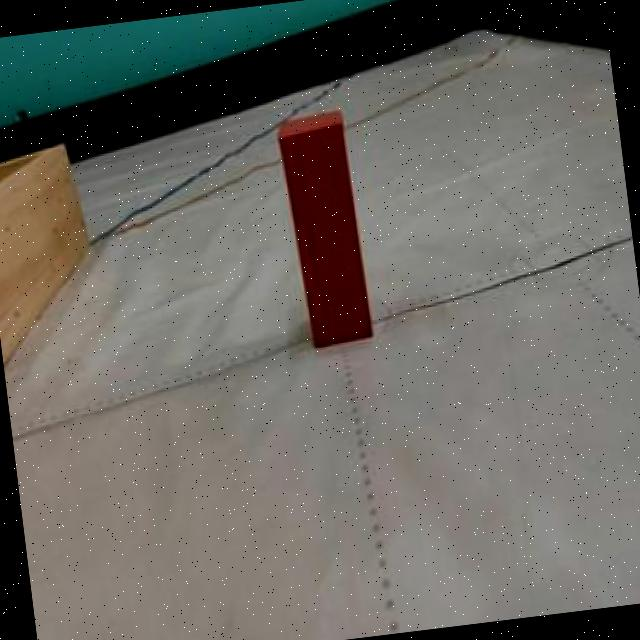redbox: (274, 104, 373, 352)
